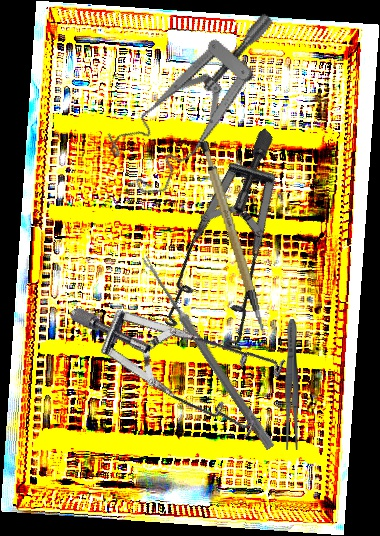Dressing Forceps: (284, 319, 300, 450)
Scalpel Handle: (196, 136, 266, 337)
Speculum: (109, 127, 365, 377), (68, 228, 309, 482), (85, 9, 320, 206)
Surgical Spoon: (138, 254, 277, 451)
